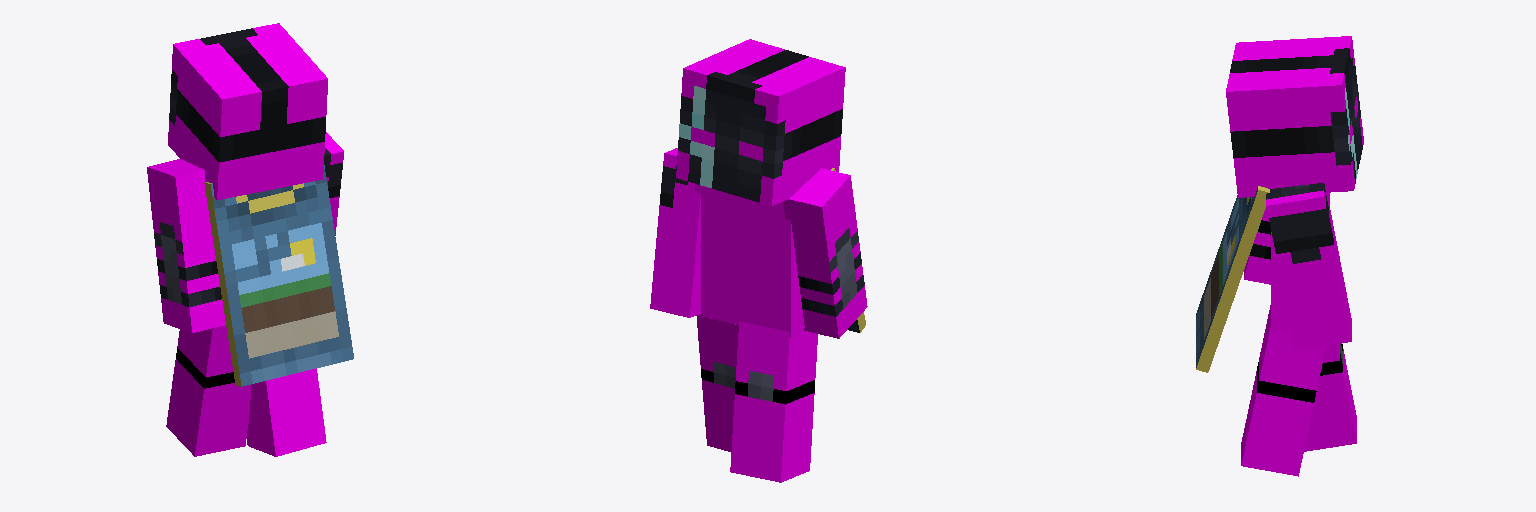
3 views of the same model, side by side, from view 1: azimuth 30°, elevation 25°; view 2: azimuth 150°, elevation 25°; view 3: azimuth 270°, elevation 25° (orthographic).
Visible parts, largest first — view 1: cape, Hat Layer, Left Arm Layer, Left Leg Layer, Right Leg Layer, Right Arm Layer; view 2: Hat Layer, Body Layer, Left Leg Layer, Left Arm Layer, Right Arm Layer, Right Leg Layer; view 3: Hat Layer, Right Arm Layer, Right Leg Layer, cape, Left Leg Layer, Left Arm Layer, Body Layer.
Boxes of the visible parts, <box> form: cape: <box>204,165,353,386</box>; Hat Layer: <box>168,23,327,199</box>; Left Arm Layer: <box>147,159,225,332</box>; Left Leg Layer: <box>166,325,251,456</box>; Right Leg Layer: <box>247,368,326,456</box>; Right Arm Layer: <box>324,132,343,235</box>; Hat Layer: <box>676,39,845,205</box>; Body Layer: <box>695,184,804,337</box>; Left Leg Layer: <box>730,321,817,482</box>; Left Arm Layer: <box>783,168,867,338</box>; Right Arm Layer: <box>650,148,700,317</box>; Right Leg Layer: <box>696,314,738,451</box>; Hat Layer: <box>1226,36,1363,197</box>; Right Arm Layer: <box>1266,183,1351,350</box>; Right Leg Layer: <box>1241,305,1325,476</box>; cape: <box>1196,186,1269,372</box>; Left Leg Layer: <box>1304,344,1356,451</box>; Left Arm Layer: <box>1244,206,1270,284</box>; Body Layer: <box>1271,193,1329,331</box>.
Size of the model in its own units: 0.9062 by 2.09 by 0.8088.
2 materials, 2 textured.